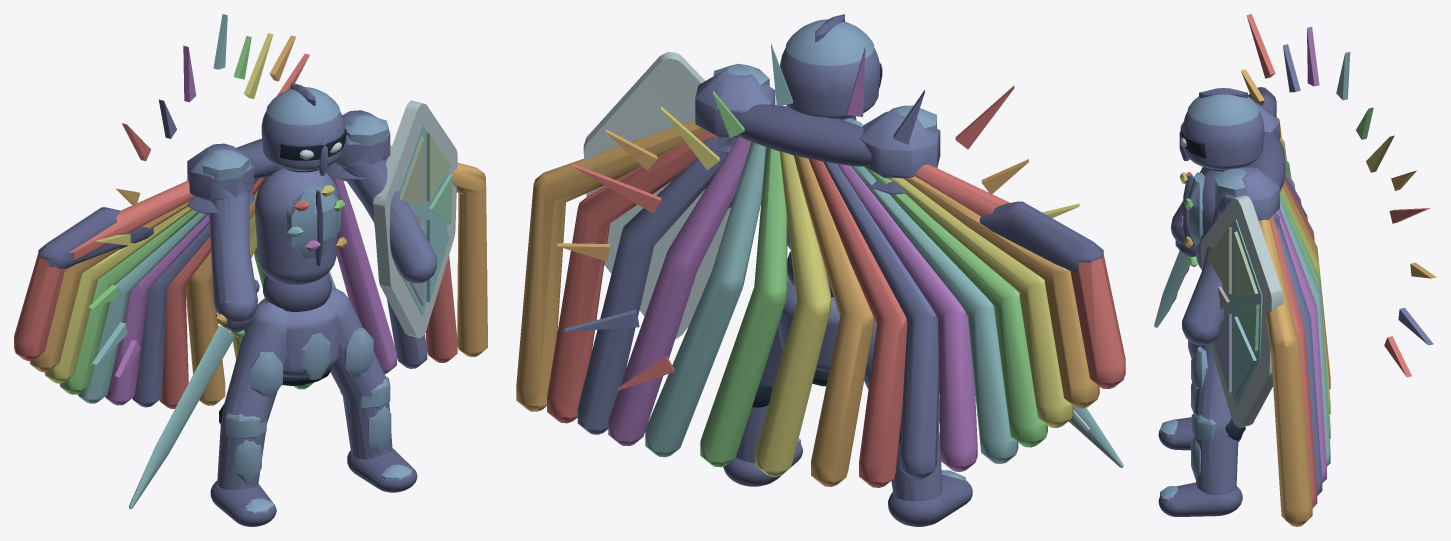
The model's file is gemknight.glb.
The picture shows the model from 3 angles, left to right: view 1: azimuth 30°, elevation 25°; view 2: azimuth 150°, elevation 25°; view 3: azimuth 270°, elevation 25°; orthographic projection. The views are drawn at different scales.
Visible parts, largest first — view 1: creature; view 2: creature; view 3: creature.
Boxes of the visible parts, x1=… form: creature: x1=14, y1=14, x2=487, y2=526; creature: x1=516, y1=14, x2=1125, y2=526; creature: x1=1154, y1=14, x2=1436, y2=526.
Size of the model in its own units: 1.18 by 1 by 0.6071.
